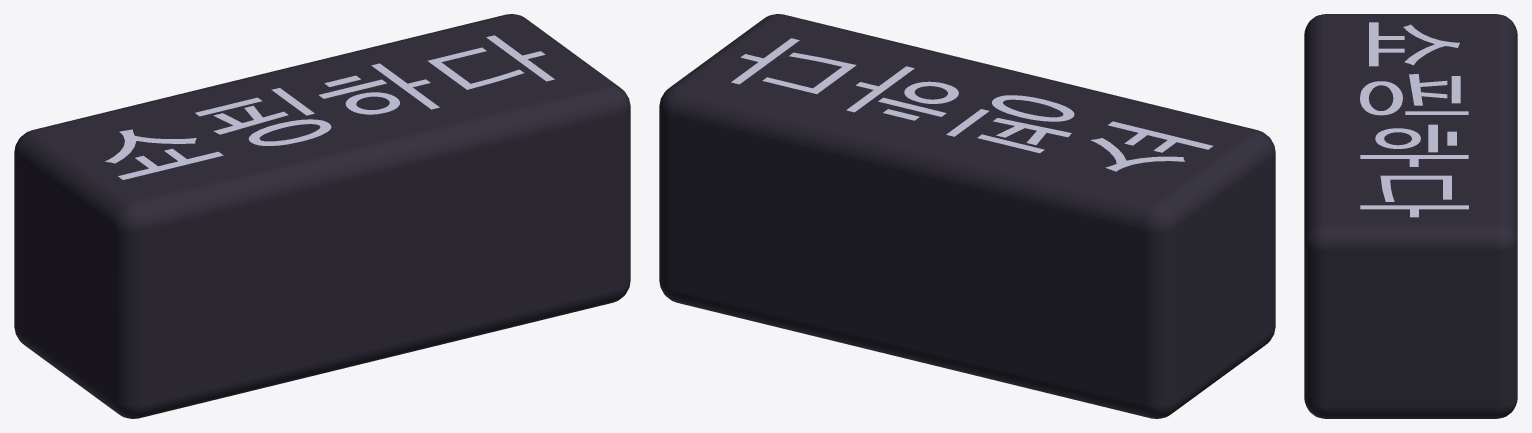
File: shop.glb
3 renders of one model, left to right at view 1: azimuth 30°, elevation 25°; view 2: azimuth 150°, elevation 25°; view 3: azimuth 270°, elevation 25°, orthographic. The views are drawn at different scales.
Parts seen in each view (by area): view 1: Cut, Extrude; view 2: Cut, Extrude; view 3: Cut, Extrude.
Boxes of the visible parts, x1,y1,x2,y2 form: Cut: (14, 14, 630, 418); Extrude: (105, 35, 554, 179); Cut: (659, 14, 1275, 418); Extrude: (731, 38, 1212, 171); Cut: (1304, 14, 1517, 418); Extrude: (1360, 22, 1468, 217).
Bounding box in the file's own units: 5 × 2 × 2.
